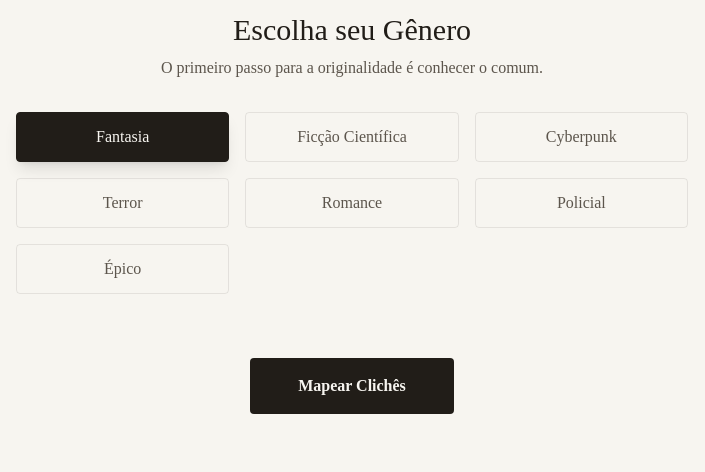
Test: Injeção de LlmPort nos passos de ideação › ClicheExtractionStep mostra erro visível quando o LLM falha
The width and height of the screenshot is (705, 472).
Click the button "Mapear Clichês". click: click(352, 386)
box: top-left (250, 358), bottom-right (454, 414)
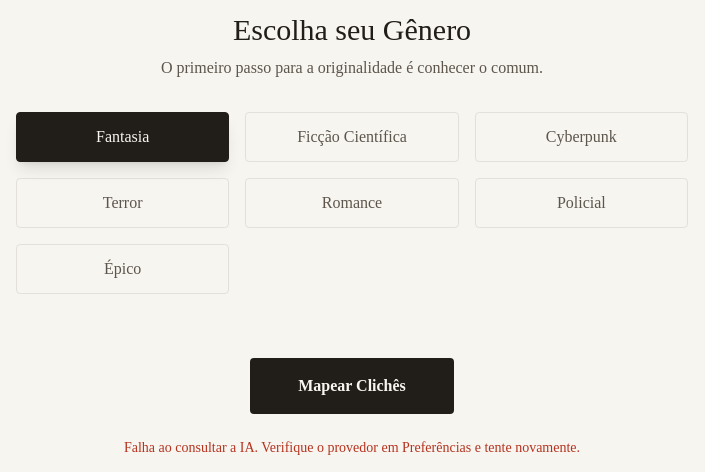
Expected: the text "Falha ao consultar a IA" is shown, top-left (124, 440), bottom-right (580, 455)
